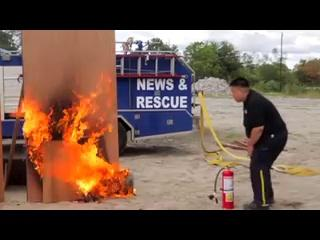Fire: (13, 71, 135, 203)
